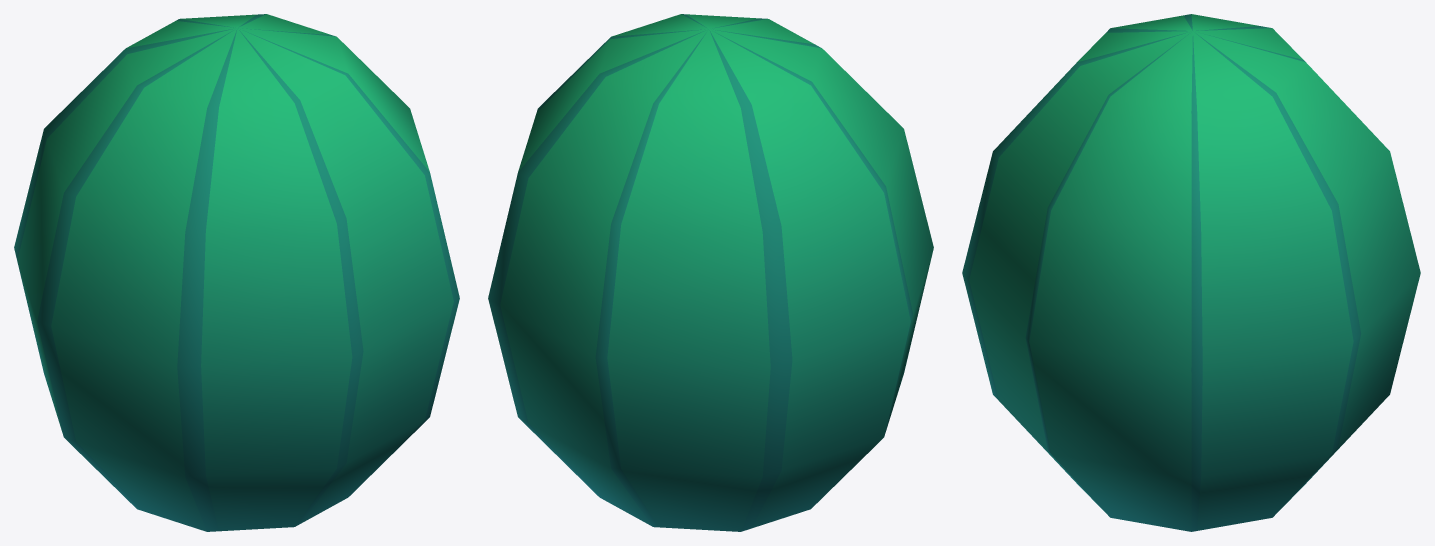
The model's file is Watermelon.fbx.
3 views of the same model, side by side, from view 1: azimuth 30°, elevation 25°; view 2: azimuth 150°, elevation 25°; view 3: azimuth 270°, elevation 25° (orthographic).
Parts seen in each view (by area): view 1: Watermelon; view 2: Watermelon; view 3: Watermelon.
Part boxes in pixels (x1,y1,x2,y2): Watermelon: (14,14,459,531); Watermelon: (488,14,933,531); Watermelon: (962,14,1420,531).
Size of the model in its own units: 220 by 257 by 220.
